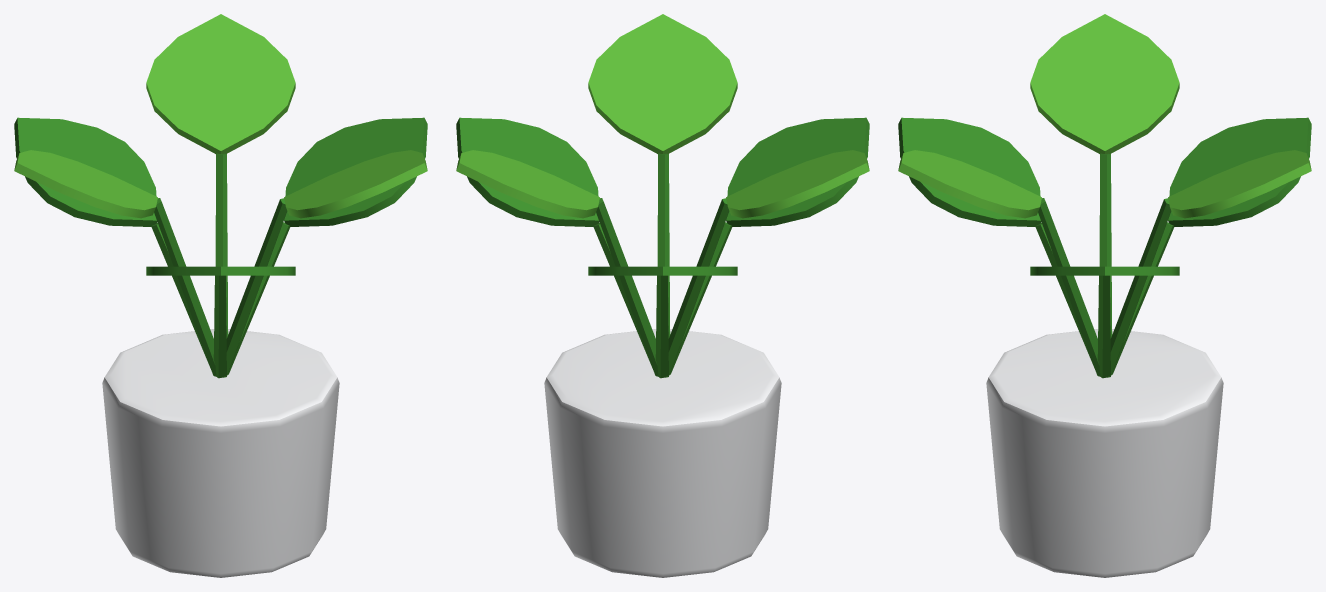
File: Monstera.fbx
3 renders of one model, left to right at view 1: azimuth 30°, elevation 25°; view 2: azimuth 150°, elevation 25°; view 3: azimuth 270°, elevation 25°, orthographic.
Parts seen in each view (by area): view 1: Monstera; view 2: Monstera; view 3: Monstera.
Boxes of the visible parts, bbox=[...] form: Monstera: bbox=[14, 14, 427, 577]; Monstera: bbox=[456, 14, 869, 577]; Monstera: bbox=[898, 14, 1311, 577].
Bounding box in the file's own units: 3.2 × 3.13 × 2.77.
Materials: 1 (1 with a texture image).
